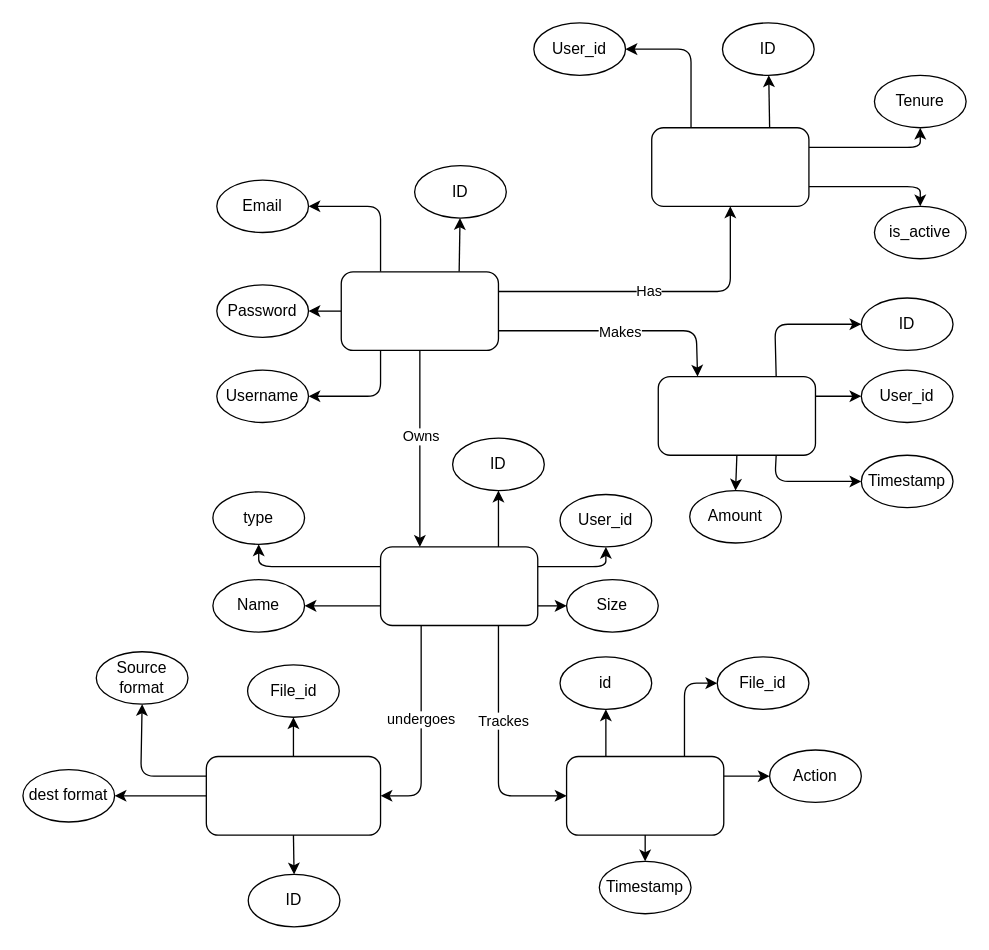
Some shapes in this 989 by 950 pixel diagram are drawn without their labels. The shapes that lost their labels are listed below. From the top down, each one's centre as x and y in pixels, then its label:
[729,166]: Subscription
[419,310]: User
[736,415]: Transection
[458,586]: Files
[293,795]: Convertion
[644,795]: Files_history
